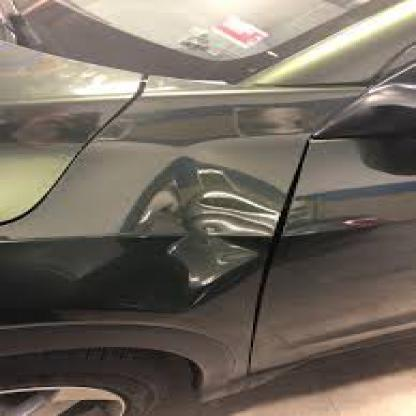dent: (122, 158, 281, 292)
